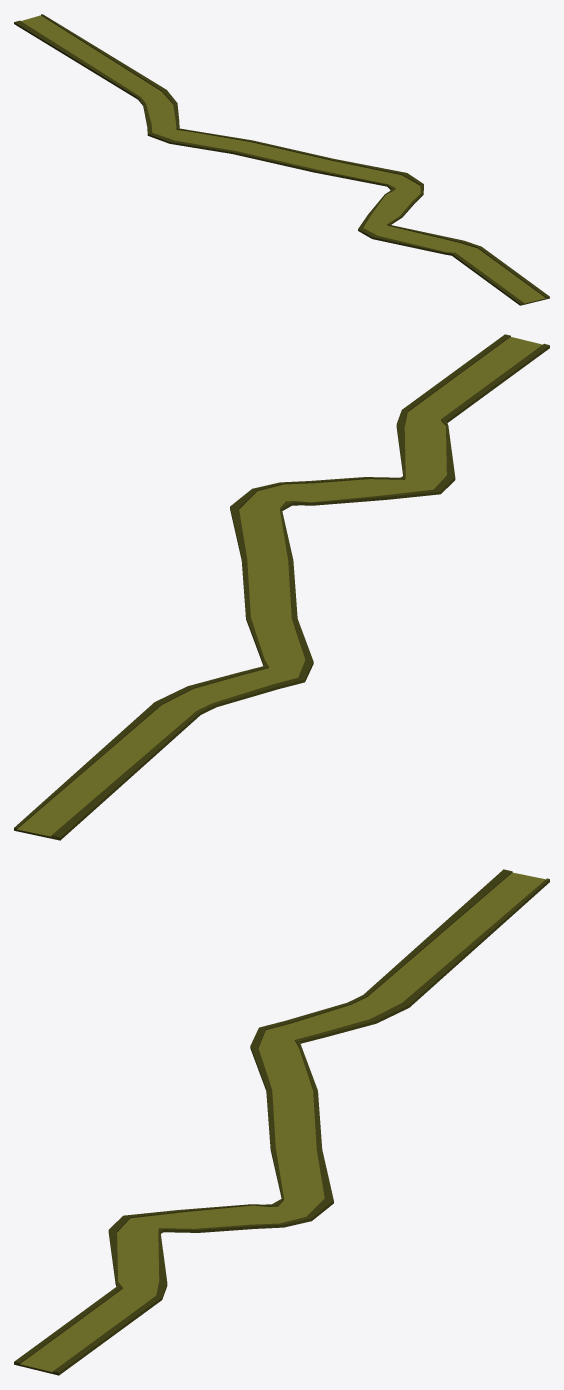
Rendered from MinionRoadV1.fbx.
3 views of the same model, one above another, from view 1: azimuth 30°, elevation 25°; view 2: azimuth 150°, elevation 25°; view 3: azimuth 330°, elevation 25° (orthographic). The views are drawn at different scales.
Visible parts, largest first — view 1: MinionRoad; view 2: MinionRoad; view 3: MinionRoad.
Boxes of the visible parts, x1,y1,x2,y2 form: MinionRoad: [14, 14, 549, 305]; MinionRoad: [14, 334, 549, 840]; MinionRoad: [14, 869, 549, 1375].
Bounding box in the file's own units: 29.13 × 0.3592 × 135.
